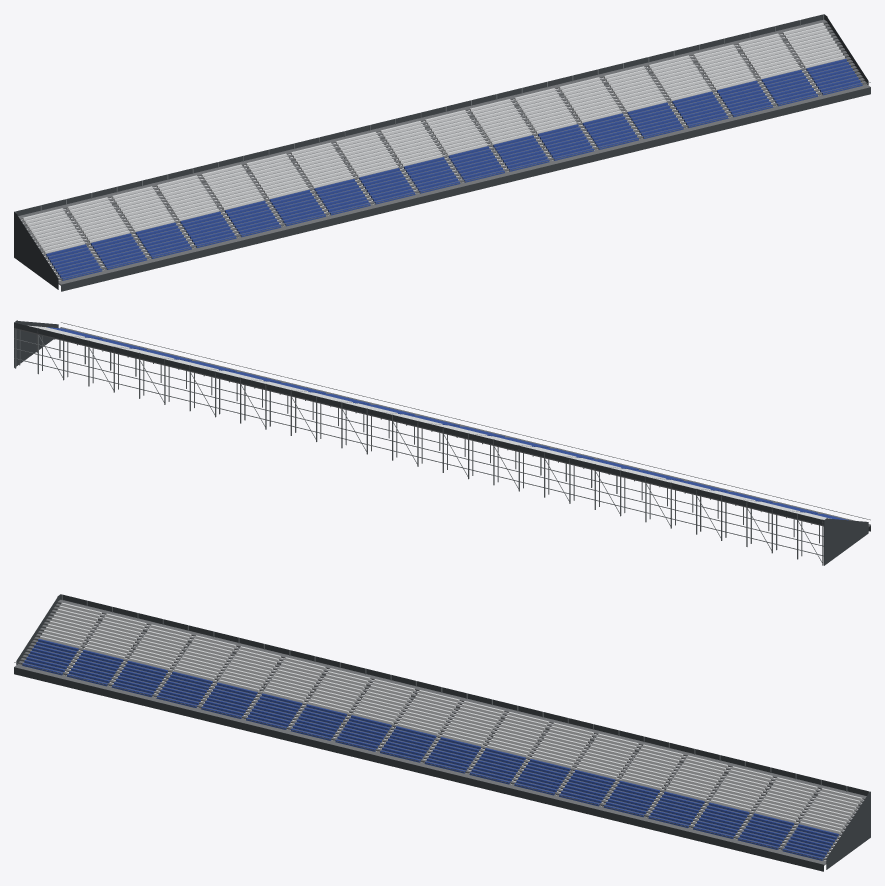
File: rbr_open_rb_n.glb
3 views of the same model, one above another, from view 1: azimuth 30°, elevation 25°; view 2: azimuth 150°, elevation 25°; view 3: azimuth 330°, elevation 25° (orthographic).
Parts seen in each view (by area): view 1: red-bull-ring-rb-n; view 2: red-bull-ring-rb-n; view 3: red-bull-ring-rb-n.
Boxes of the visible parts, left/top/right/bottom form: red-bull-ring-rb-n: left=14, top=14, right=870, bottom=291; red-bull-ring-rb-n: left=14, top=320, right=870, bottom=565; red-bull-ring-rb-n: left=14, top=594, right=870, bottom=871.
Size of the model in its own units: 192 by 10.36 by 19.25.
